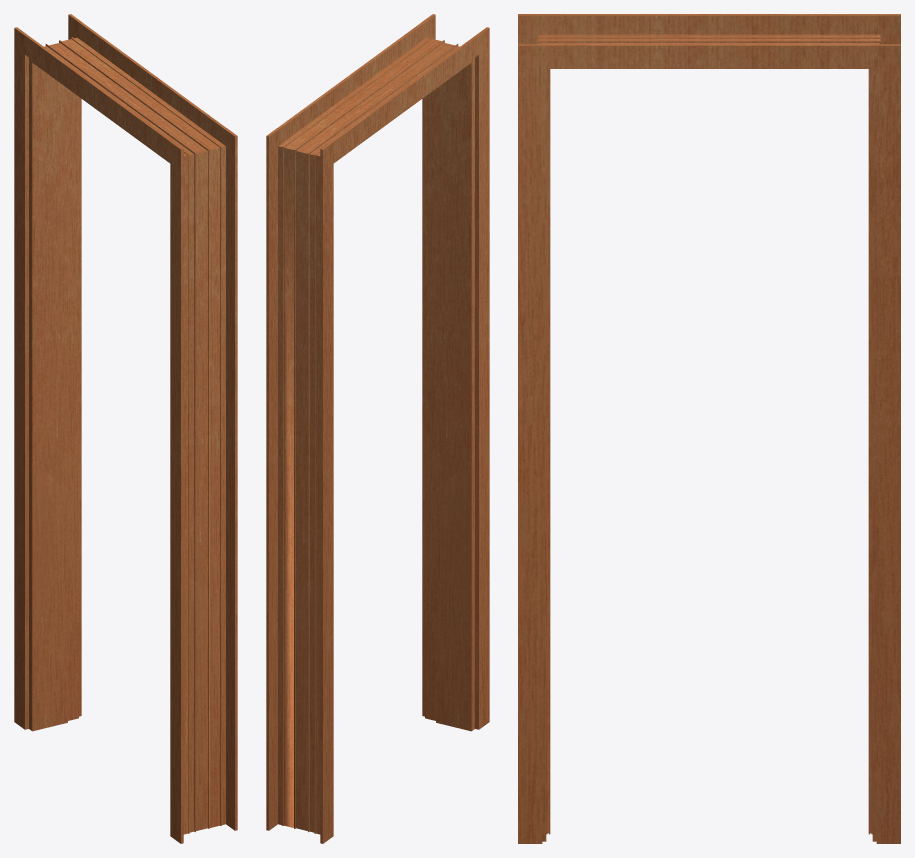
Rendered from marco_pvc6cm.fbx.
3 renders of one model, left to right at view 1: azimuth 30°, elevation 25°; view 2: azimuth 150°, elevation 25°; view 3: azimuth 270°, elevation 25°, orthographic. The views are drawn at different scales.
Parts seen in each view (by area): view 1: marco_alisar; view 2: marco_alisar; view 3: marco_alisar.
Boxes of the visible parts, x1,y1,x2,y2 form: marco_alisar: (14,14,237,843); marco_alisar: (266,14,489,843); marco_alisar: (518,14,900,843).
Bounding box in the file's own units: 18.6 × 218 × 94.58.
